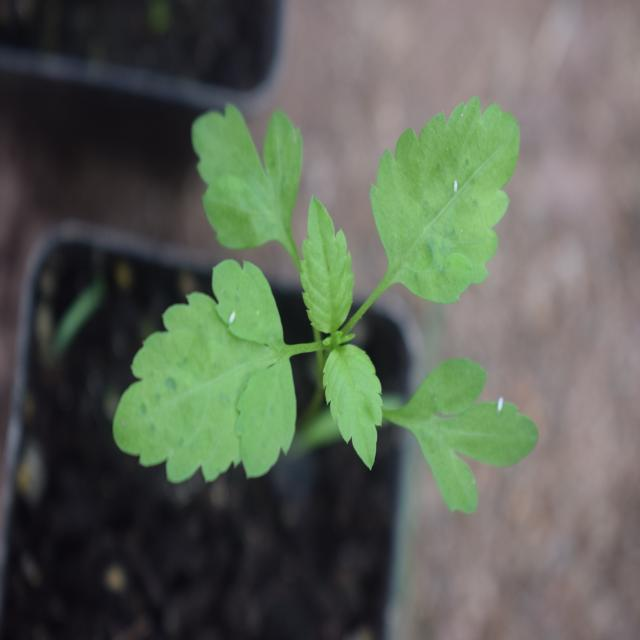Bidens pilosa: (106, 84, 553, 518)
